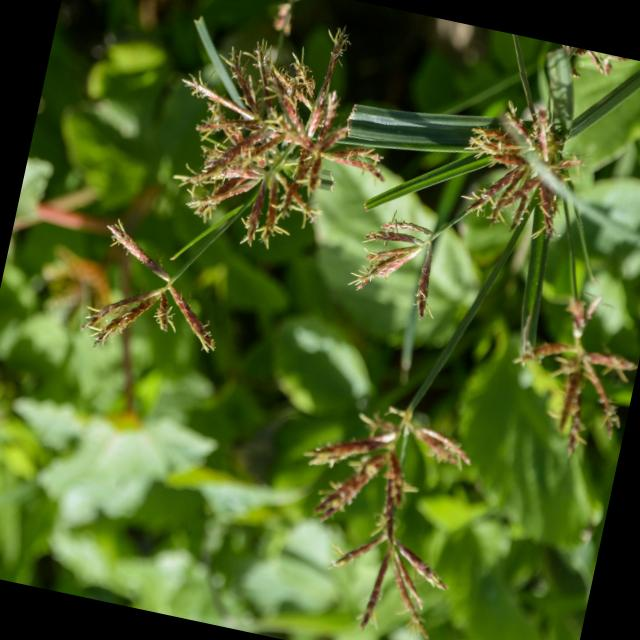cyperus: (154, 0, 404, 276), (270, 369, 493, 640), (437, 66, 616, 282), (67, 208, 238, 382), (493, 290, 640, 472), (334, 194, 461, 328)
